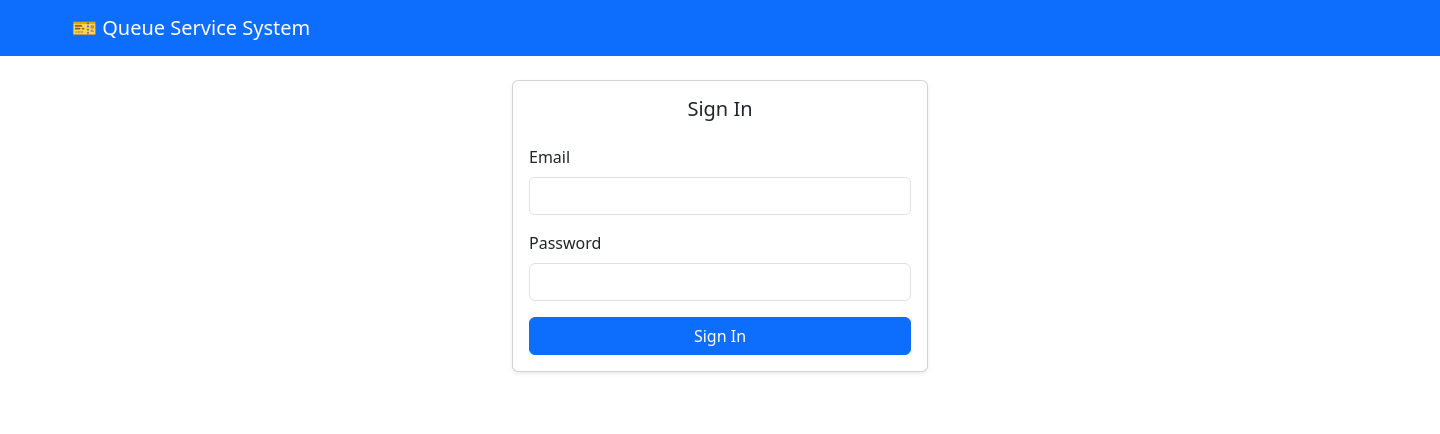
it: UI-04: Operator login shows operator dashboard › renders operator dashboard after Operator login
Expected: the form with test id "login-form" is shown, [529, 145, 911, 355]
In the field with test id "email-input": (720, 196) [529, 177, 911, 215], type "operator1@test.com"
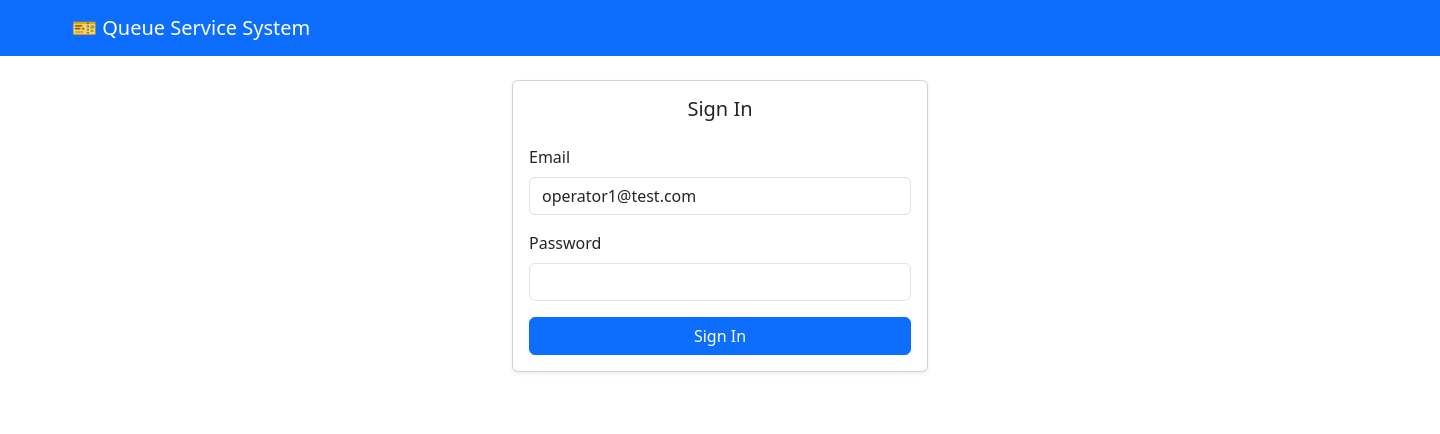
In the password field with test id "password-input": (720, 282) [529, 263, 911, 301], type "password123"
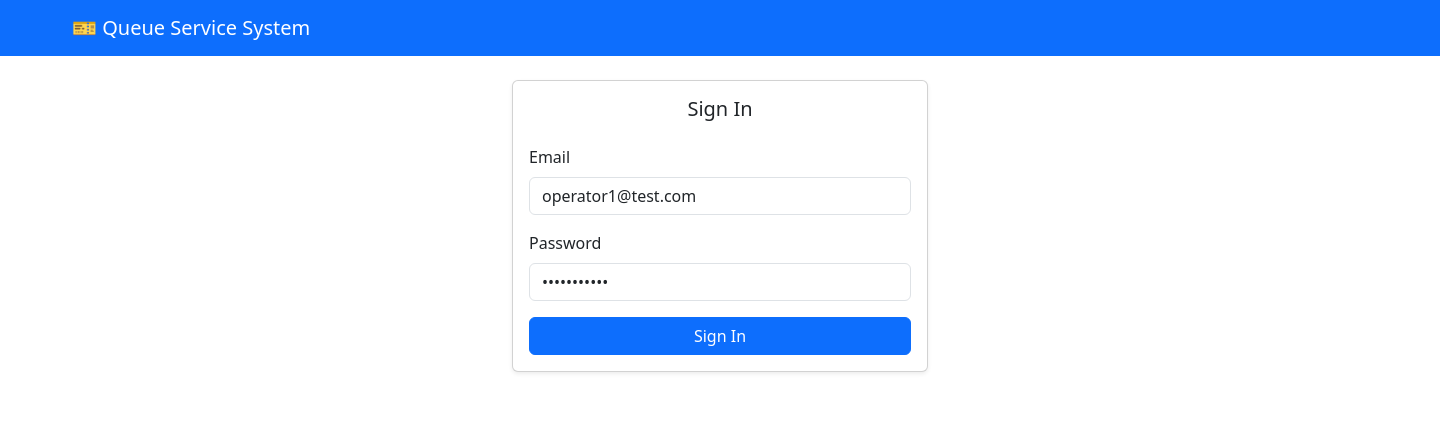
Click the button with test id "login-btn": (720, 336) [529, 317, 911, 355]
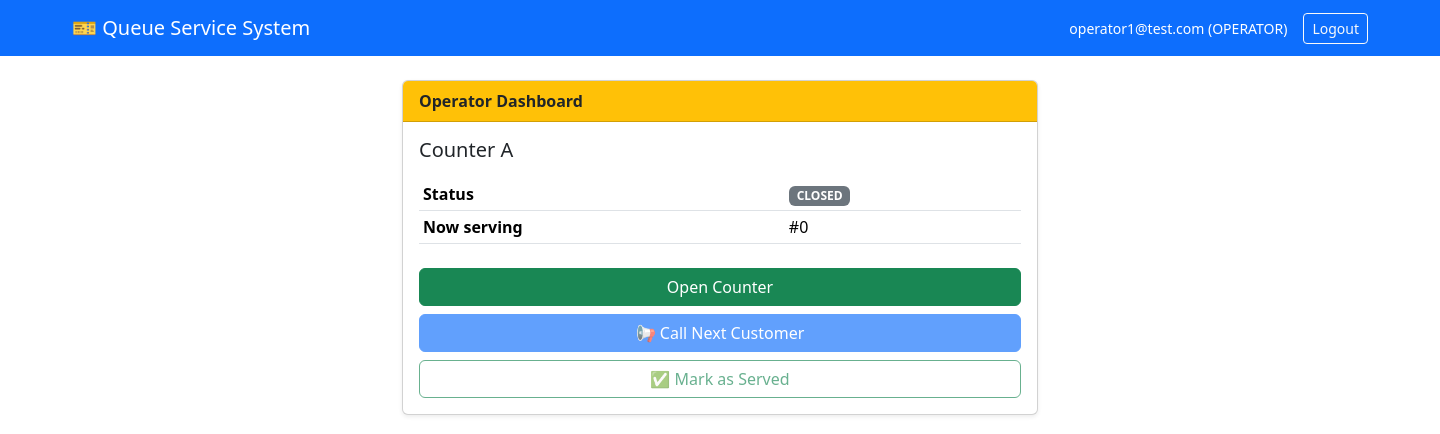
Expected: the element with test id "operator-dashboard" is shown, [402, 80, 1038, 415]
Expected: the heading "Counter A" is shown, [419, 136, 513, 163]
